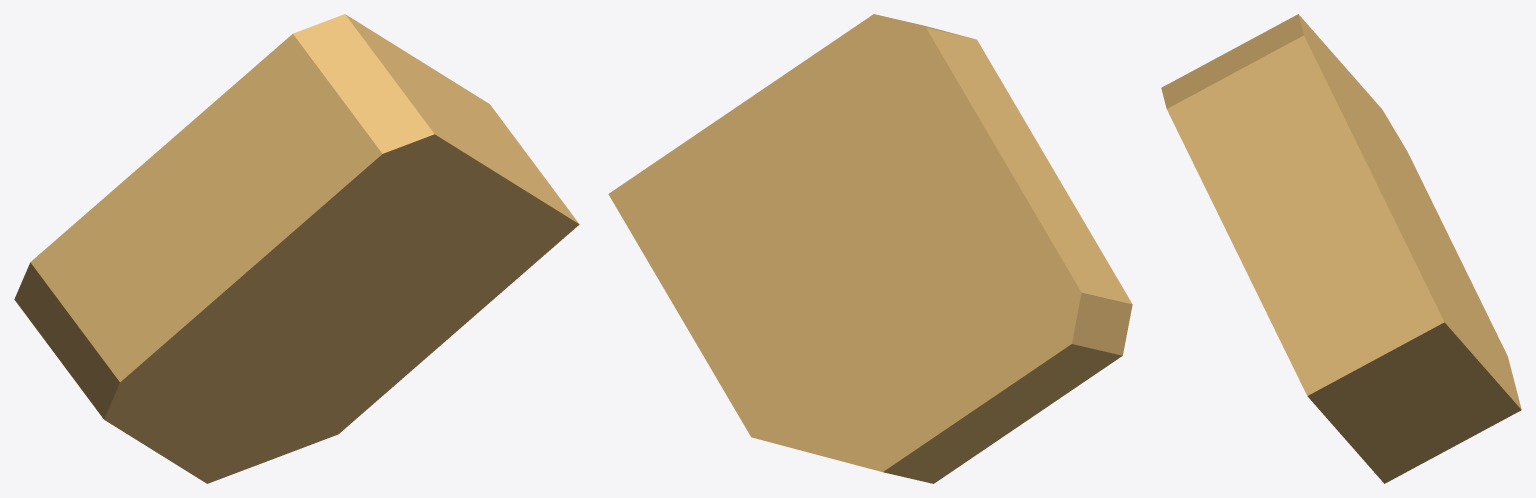
File: HandPalm.obj
3 renders of one model, left to right at view 1: azimuth 30°, elevation 25°; view 2: azimuth 150°, elevation 25°; view 3: azimuth 270°, elevation 25°, orthographic. The views are drawn at different scales.
Visible parts, largest first — view 1: 立方体.002; view 2: 立方体.002; view 3: 立方体.002.
Part boxes in pixels (x1=…): 立方体.002: x1=14, y1=14, x2=579, y2=483; 立方体.002: x1=608, y1=14, x2=1132, y2=483; 立方体.002: x1=1161, y1=14, x2=1521, y2=483.
Bounding box in the file's own units: 3.58 × 3.15 × 2.33.
1 material, 1 textured.
